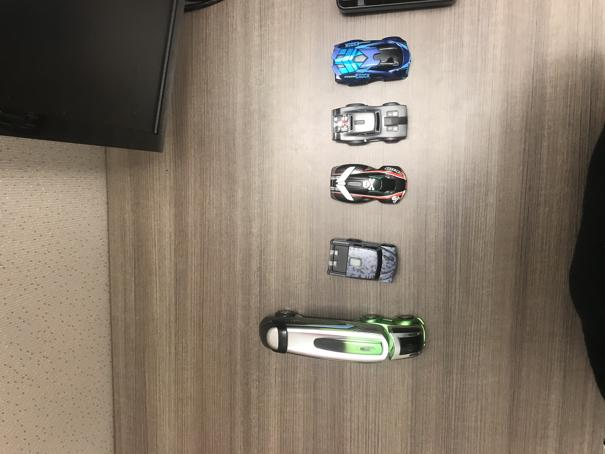Charger: (331, 101, 411, 146)
Freewheel: (258, 309, 429, 363)
MXT: (327, 238, 400, 284)
Shock: (331, 35, 411, 87)
Skull: (329, 164, 408, 205)
